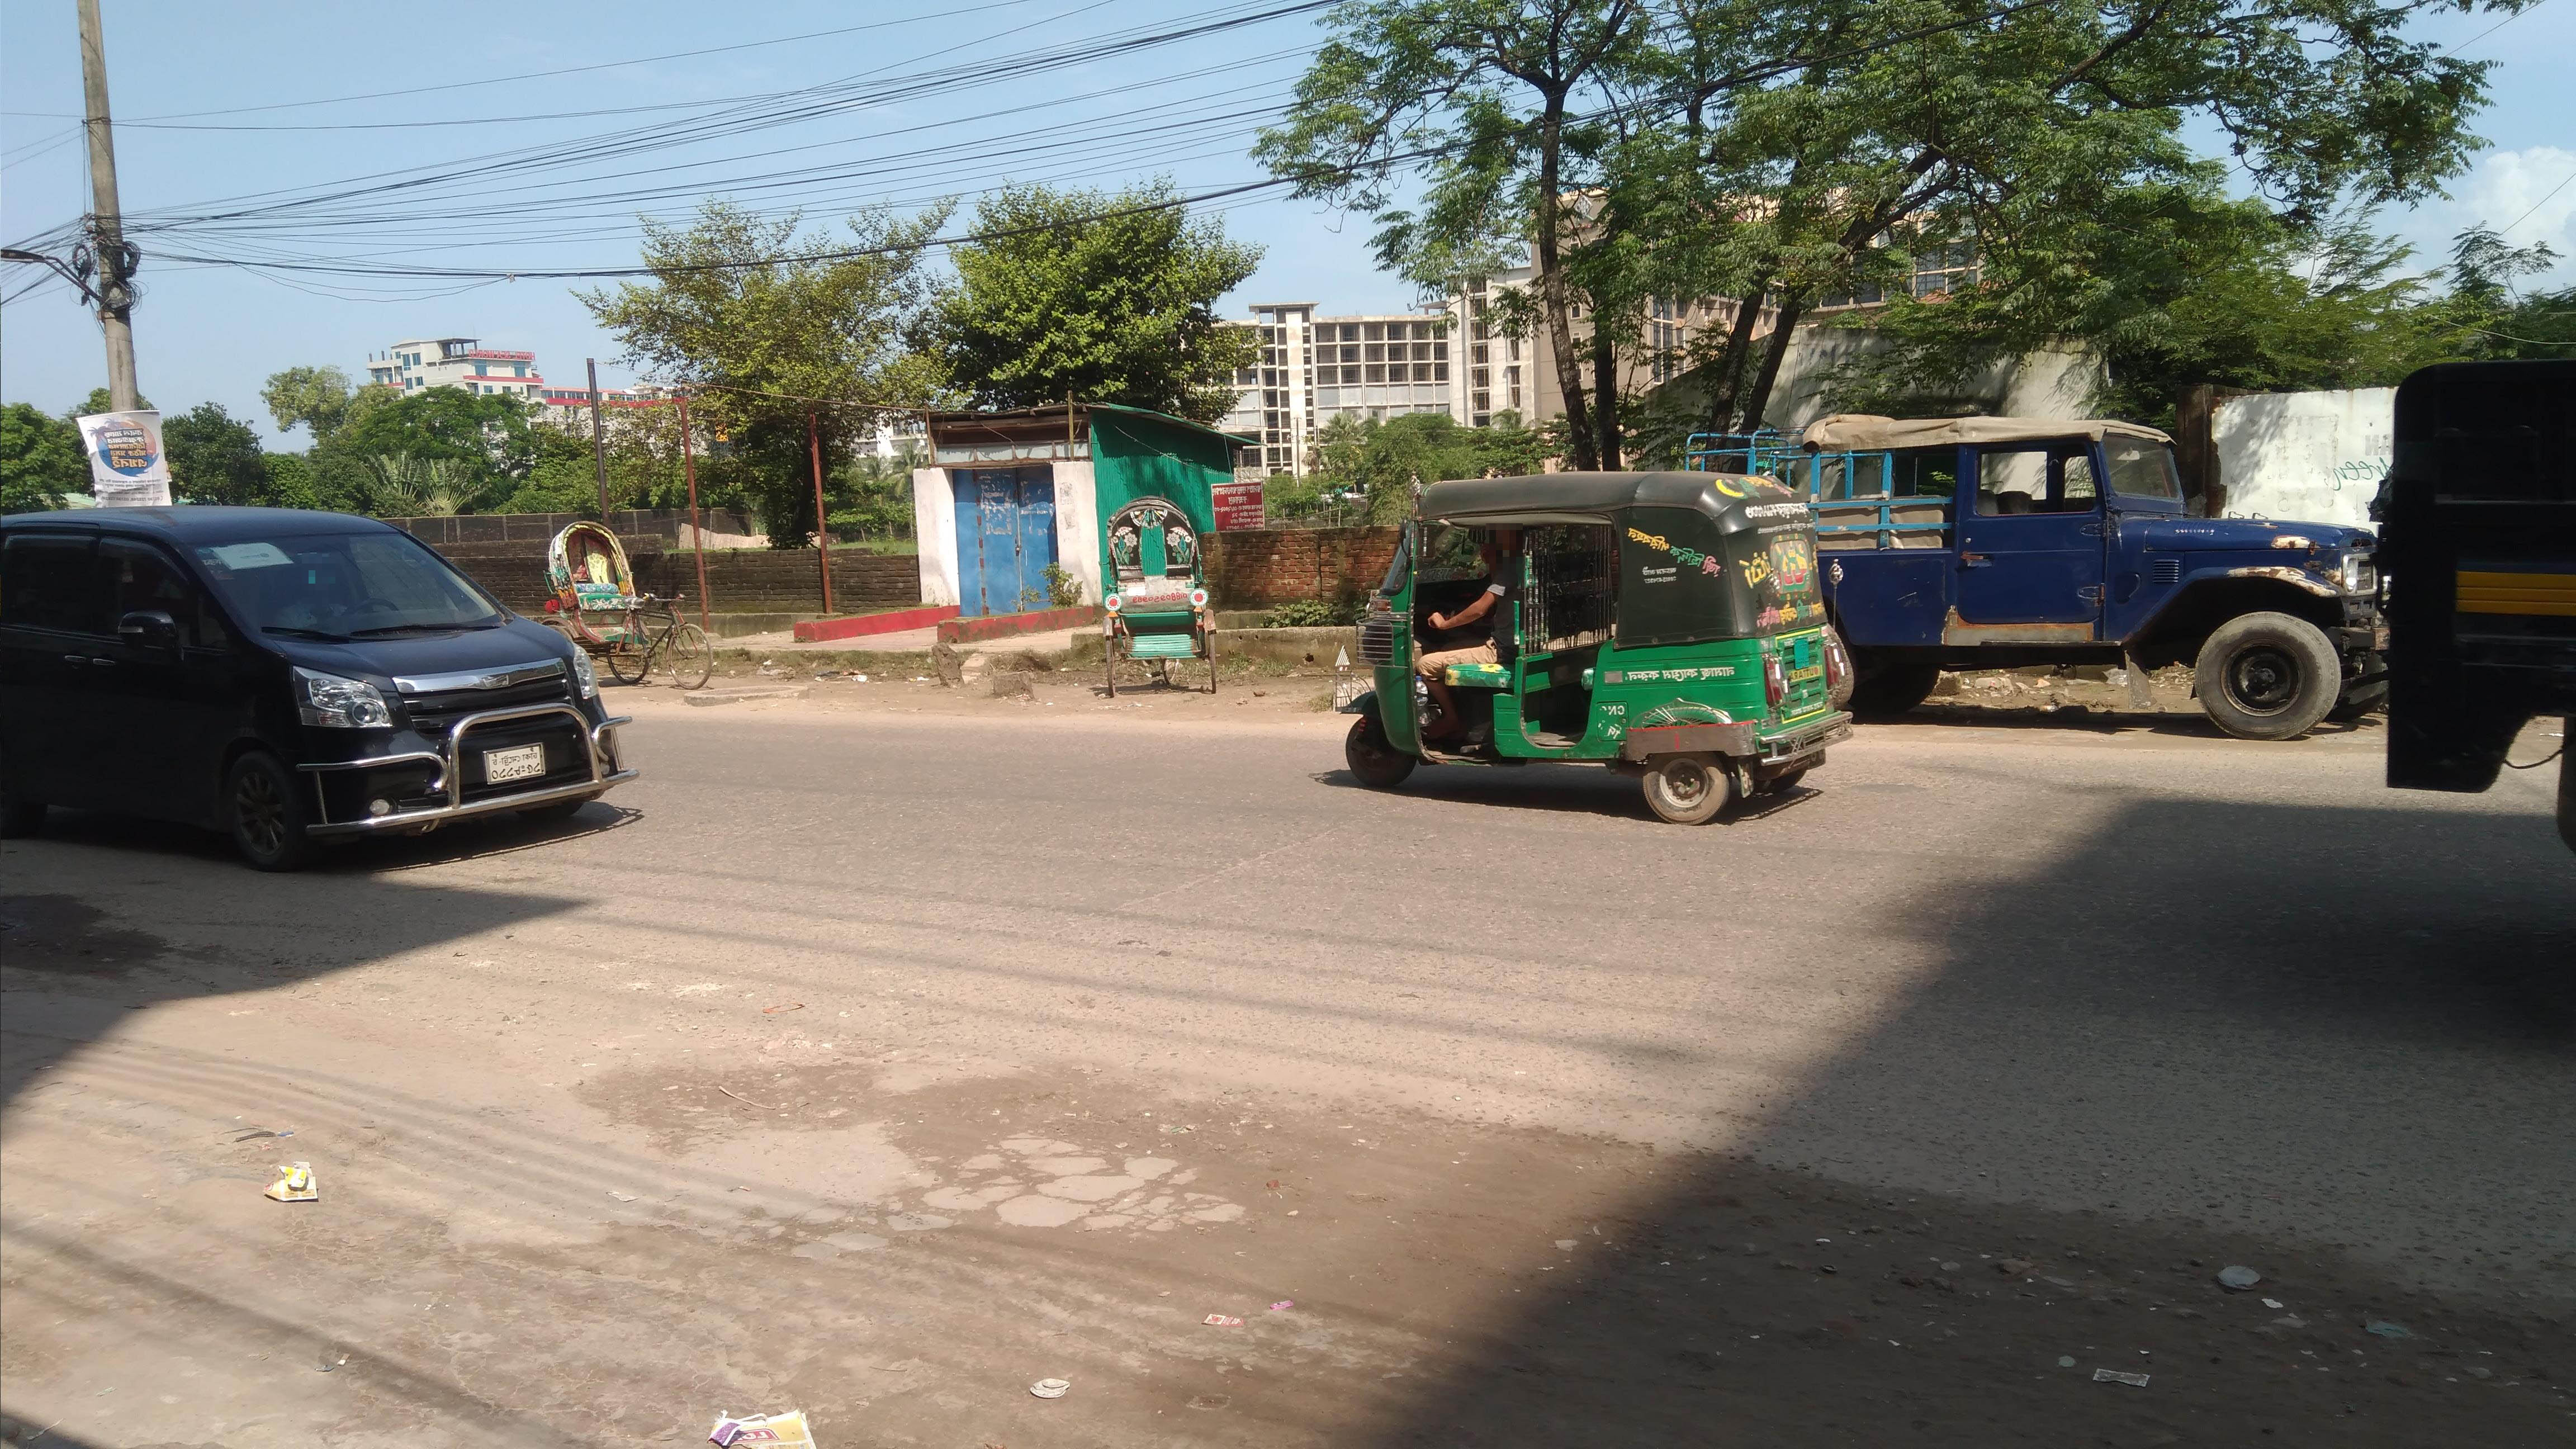car: (5, 474, 635, 885), (1808, 379, 2390, 761)
cng: (1315, 451, 1865, 844)
rickshaw: (1083, 488, 1238, 708), (534, 522, 713, 697)
